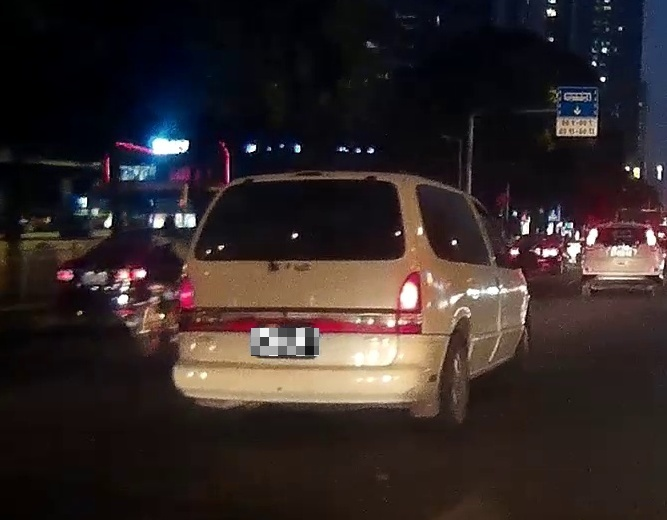L_light: (177, 277, 196, 333), (54, 267, 80, 284), (586, 227, 598, 251)
R_light: (115, 265, 151, 283), (645, 228, 657, 252)
T_light: (287, 180, 324, 188), (132, 233, 152, 237), (616, 225, 633, 228)
day-no: (396, 272, 423, 335)
night-no: (172, 170, 429, 430), (54, 227, 165, 326), (582, 222, 664, 301)
plate_1: (251, 328, 319, 356)
